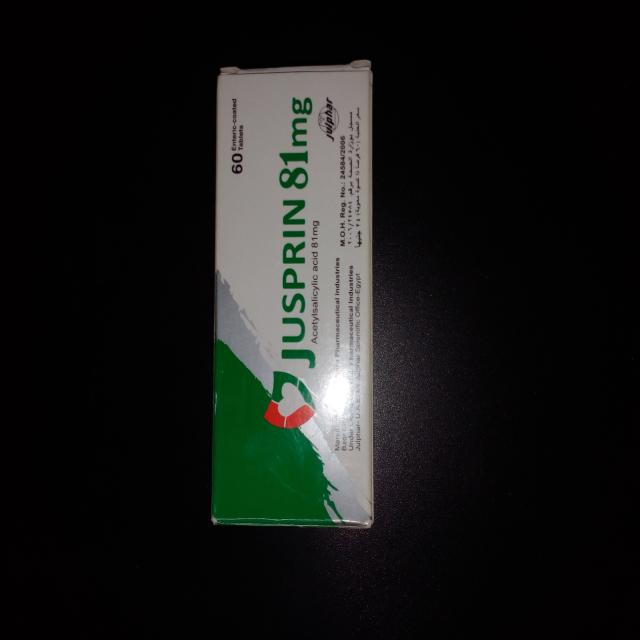Medicine: (207, 59, 378, 541)
